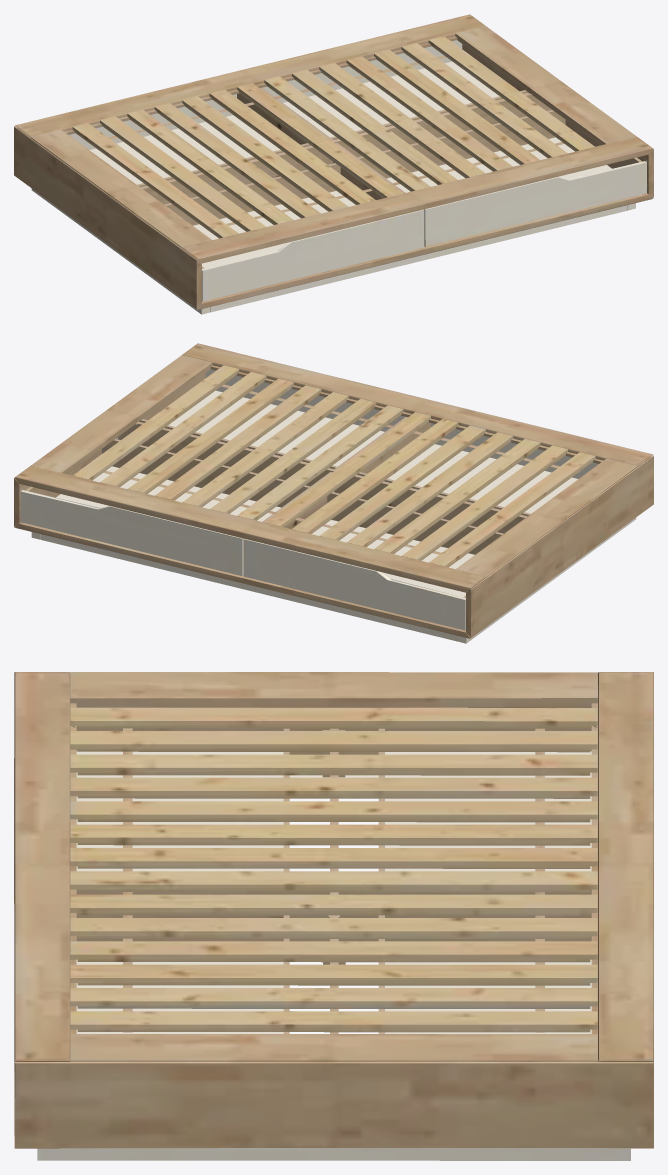
3 renders of one model, top to bottom at view 1: azimuth 30°, elevation 25°; view 2: azimuth 150°, elevation 25°; view 3: azimuth 270°, elevation 25°, orthographic. The views are drawn at different scales.
Parts seen in each view (by area): view 1: Mesh_0; view 2: Mesh_0; view 3: Mesh_0.
Boxes of the visible parts, bbox=[...] form: Mesh_0: bbox=[14, 14, 653, 314]; Mesh_0: bbox=[14, 343, 653, 643]; Mesh_0: bbox=[14, 672, 653, 1160].
Size of the model in its own units: 2.02 by 0.2655 by 1.4.
Materials: 1 (1 with a texture image).
